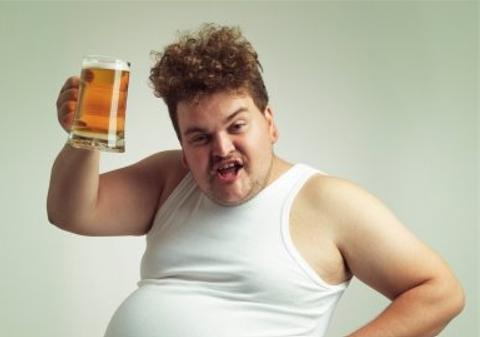Drunk: (177, 99, 269, 199)
